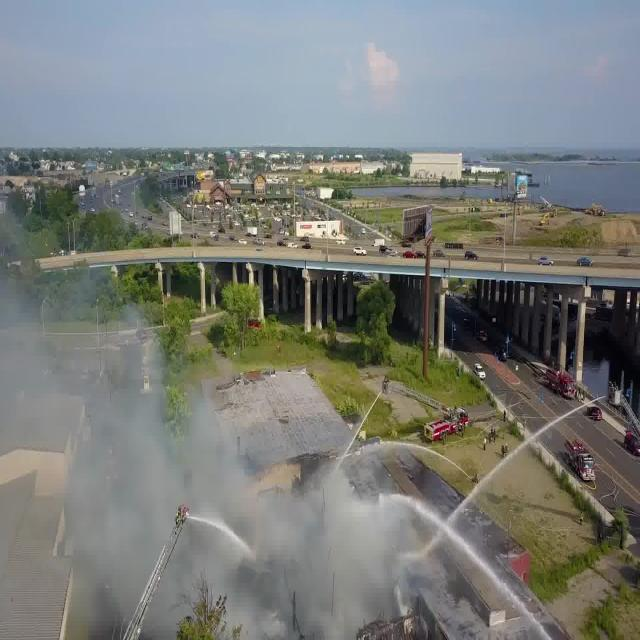Smoke: (4, 264, 496, 640)
